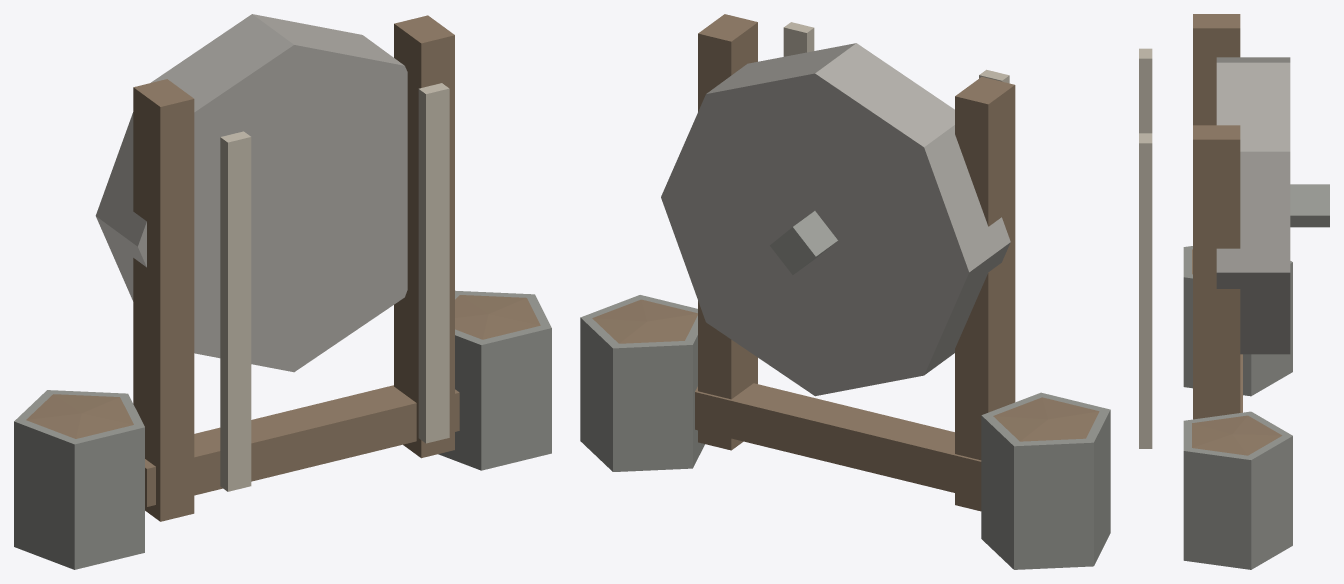
File: grindstone-pack.glb
3 renders of one model, left to right at view 1: azimuth 30°, elevation 25°; view 2: azimuth 150°, elevation 25°; view 3: azimuth 270°, elevation 25°, orthographic. The views are drawn at different scales.
Parts seen in each view (by area): view 1: grindstone_pack; view 2: grindstone_pack; view 3: grindstone_pack.
Boxes of the visible parts, x1=… form: grindstone_pack: x1=14, y1=14, x2=551, y2=569; grindstone_pack: x1=580, y1=14, x2=1110, y2=569; grindstone_pack: x1=1139, y1=14, x2=1329, y2=569.
Bounding box in the file's own units: 0.3329 × 0.2767 × 0.1208.
